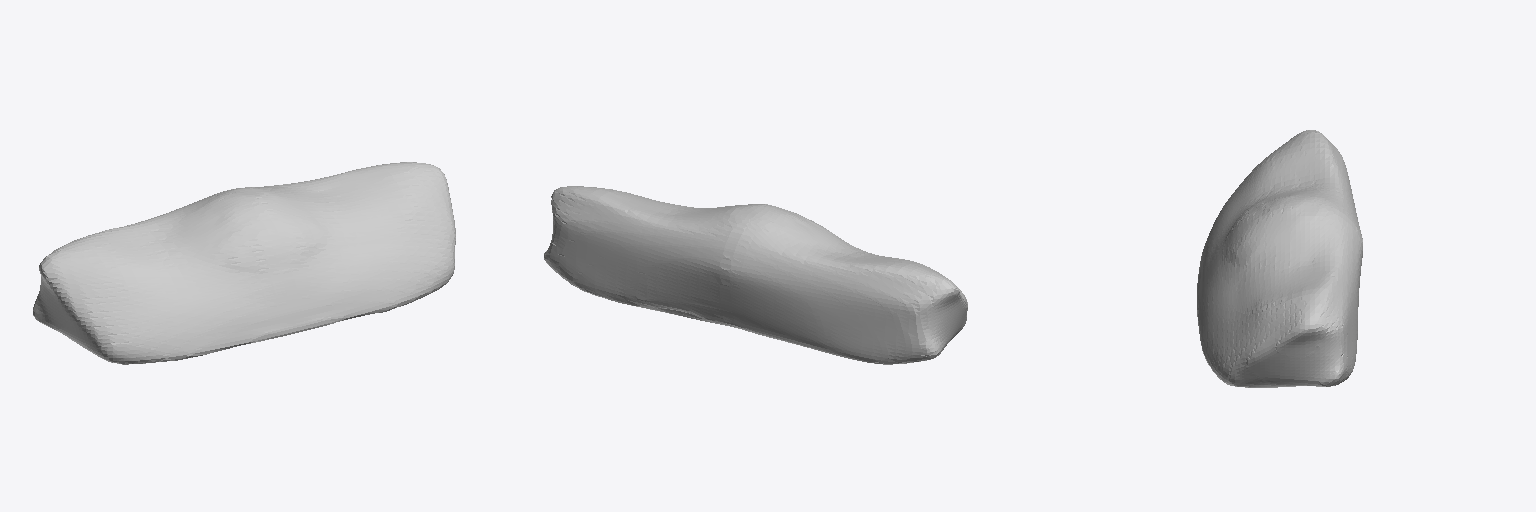
File: phoenix_3Dmodel__frontBumper.obj
The picture shows the model from 3 angles: view 1: azimuth 30°, elevation 25°; view 2: azimuth 150°, elevation 25°; view 3: azimuth 270°, elevation 25°; orthographic projection.
Visible parts, largest first — view 1: Cube.004; view 2: Cube.004; view 3: Cube.004.
Part boxes in pixels (x1,y1,x2,y2): Cube.004: (33,162,455,364); Cube.004: (544,186,967,364); Cube.004: (1197,130,1362,387).
Size of the model in its own units: 1.21 by 0.3034 by 0.4341.